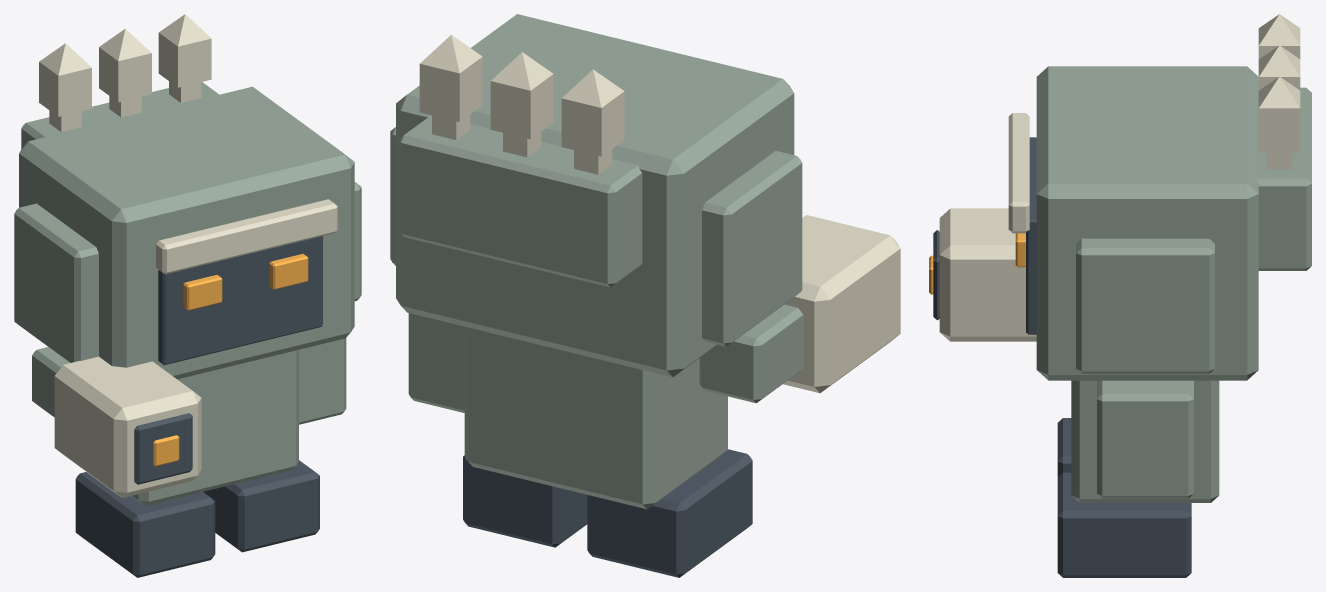
The model's file is EnemyShooter.fbx.
3 renders of one model, left to right at view 1: azimuth 30°, elevation 25°; view 2: azimuth 150°, elevation 25°; view 3: azimuth 270°, elevation 25°, orthographic. The views are drawn at different scales.
Visible parts, largest first — view 1: EnemyShooter, ShootArmMesh; view 2: EnemyShooter, ShootArmMesh; view 3: EnemyShooter, ShootArmMesh.
Part boxes in pixels (x1,y1,x2,y2): EnemyShooter: (14, 14, 361, 577); ShootArmMesh: (32, 347, 201, 497); EnemyShooter: (390, 14, 802, 577); ShootArmMesh: (699, 215, 900, 403); EnemyShooter: (1008, 14, 1311, 577); ShootArmMesh: (929, 208, 1036, 341).
Bounding box in the file's own units: 82.75 × 116 × 82.8.
